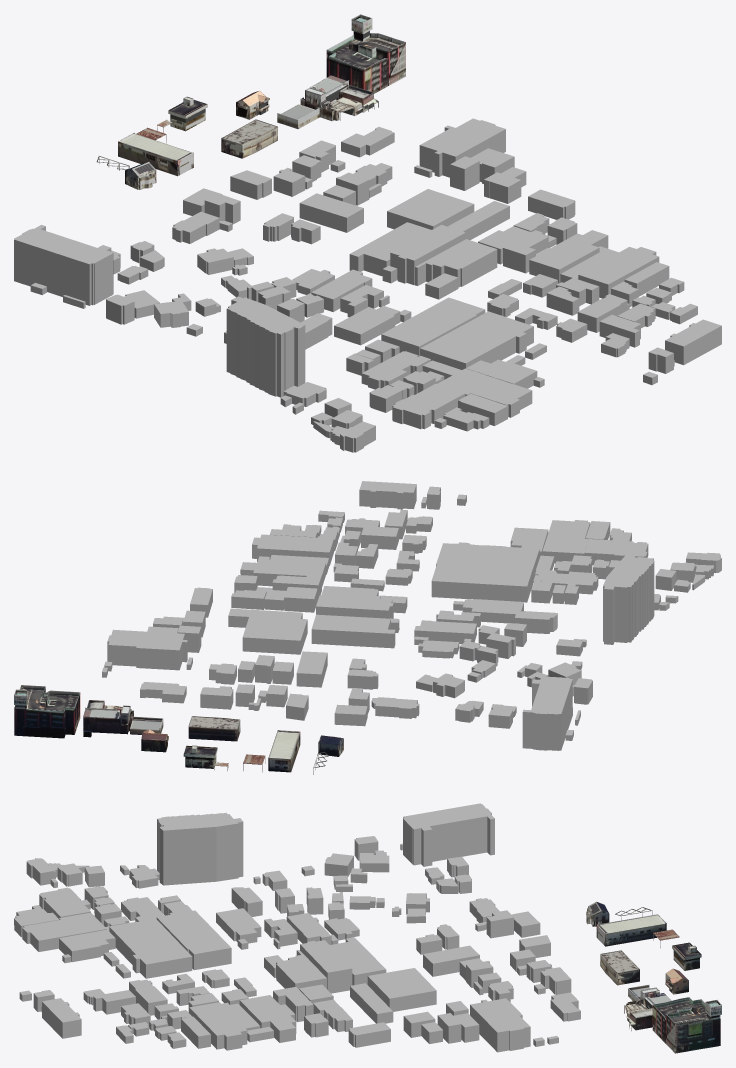
The model's file is lod3-station-1-2-packed.glb.
3 views of the same model, one above another, from view 1: azimuth 30°, elevation 25°; view 2: azimuth 150°, elevation 25°; view 3: azimuth 270°, elevation 25° (orthographic). The views are drawn at different scales.
Bounding box in the file's own units: 254 × 30.99 × 355.
Materials: 4 (3 with a texture image).
